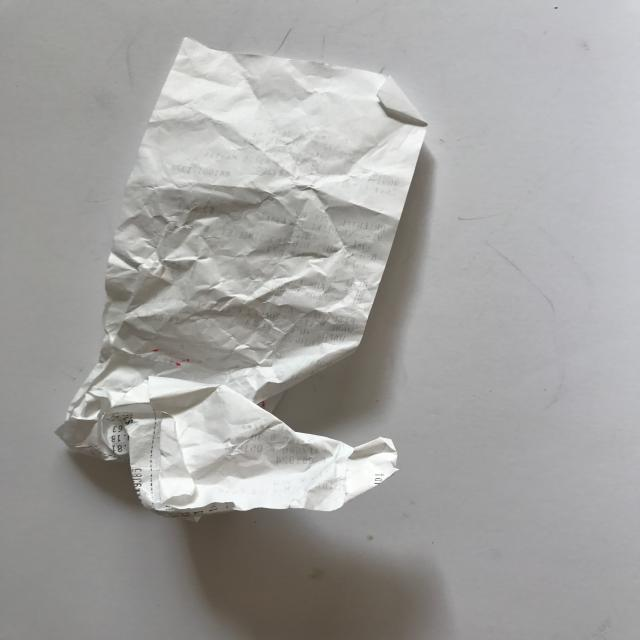paper: (48, 36, 429, 521)
